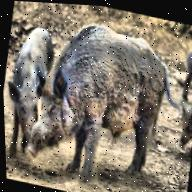boar: (16, 11, 187, 192), (0, 13, 64, 158)
